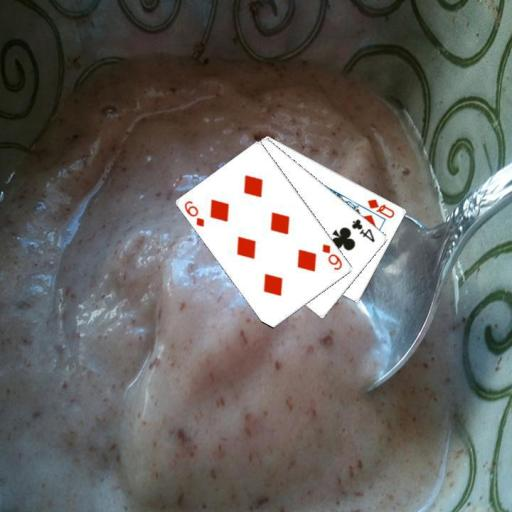4C: (348, 215, 377, 244)
6D: (319, 241, 344, 272), (182, 198, 207, 228)
QD: (364, 196, 396, 220)
